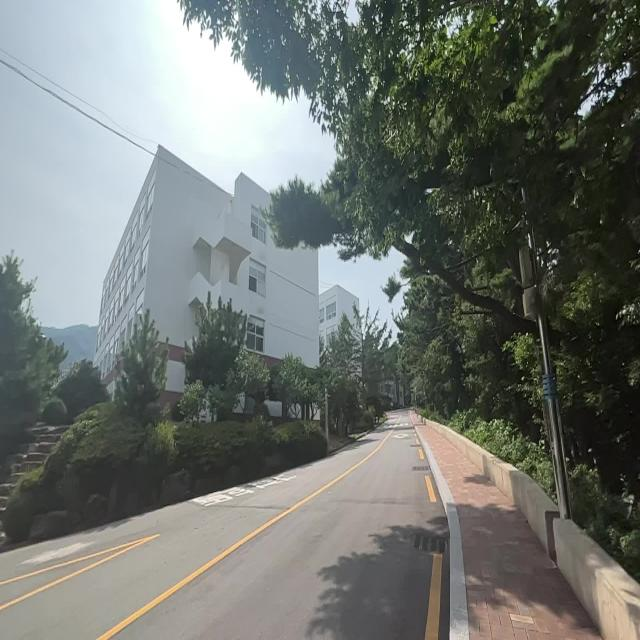building: (89, 151, 326, 374)
